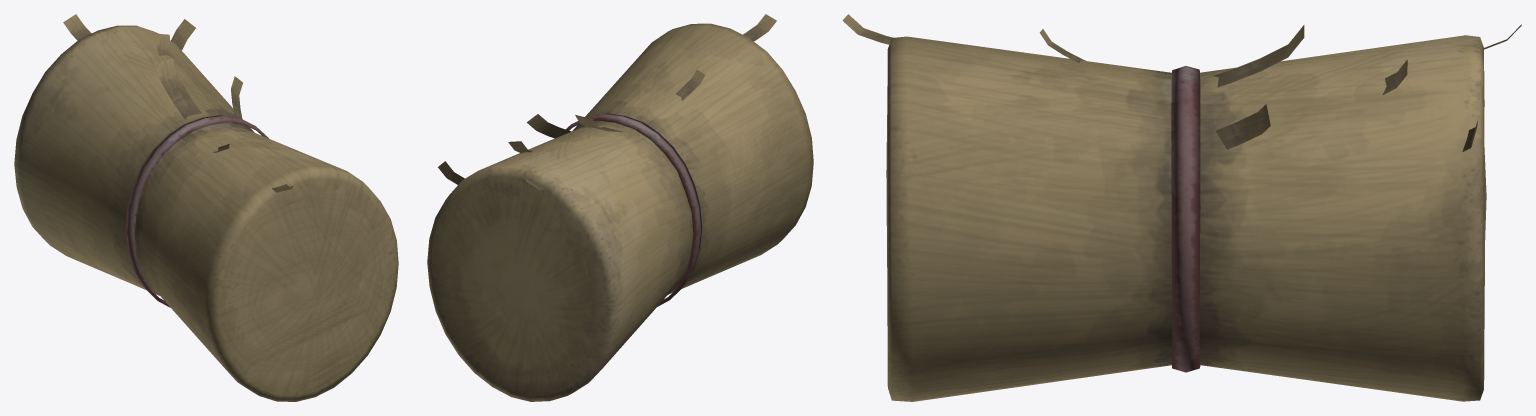
Rendered from Msh_Ball_Of_Straw_Env 1.fbx.
The picture shows the model from 3 angles, left to right: view 1: azimuth 30°, elevation 25°; view 2: azimuth 150°, elevation 25°; view 3: azimuth 270°, elevation 25°; orthographic projection. The views are drawn at different scales.
Visible parts, largest first — view 1: Plane001; view 2: Plane001; view 3: Plane001.
Part boxes in pixels (bbox=[...]): Plane001: bbox=[14, 14, 398, 401]; Plane001: bbox=[427, 14, 813, 401]; Plane001: bbox=[842, 14, 1521, 401].
Bounding box in the file's own units: 151 × 184 × 319.
